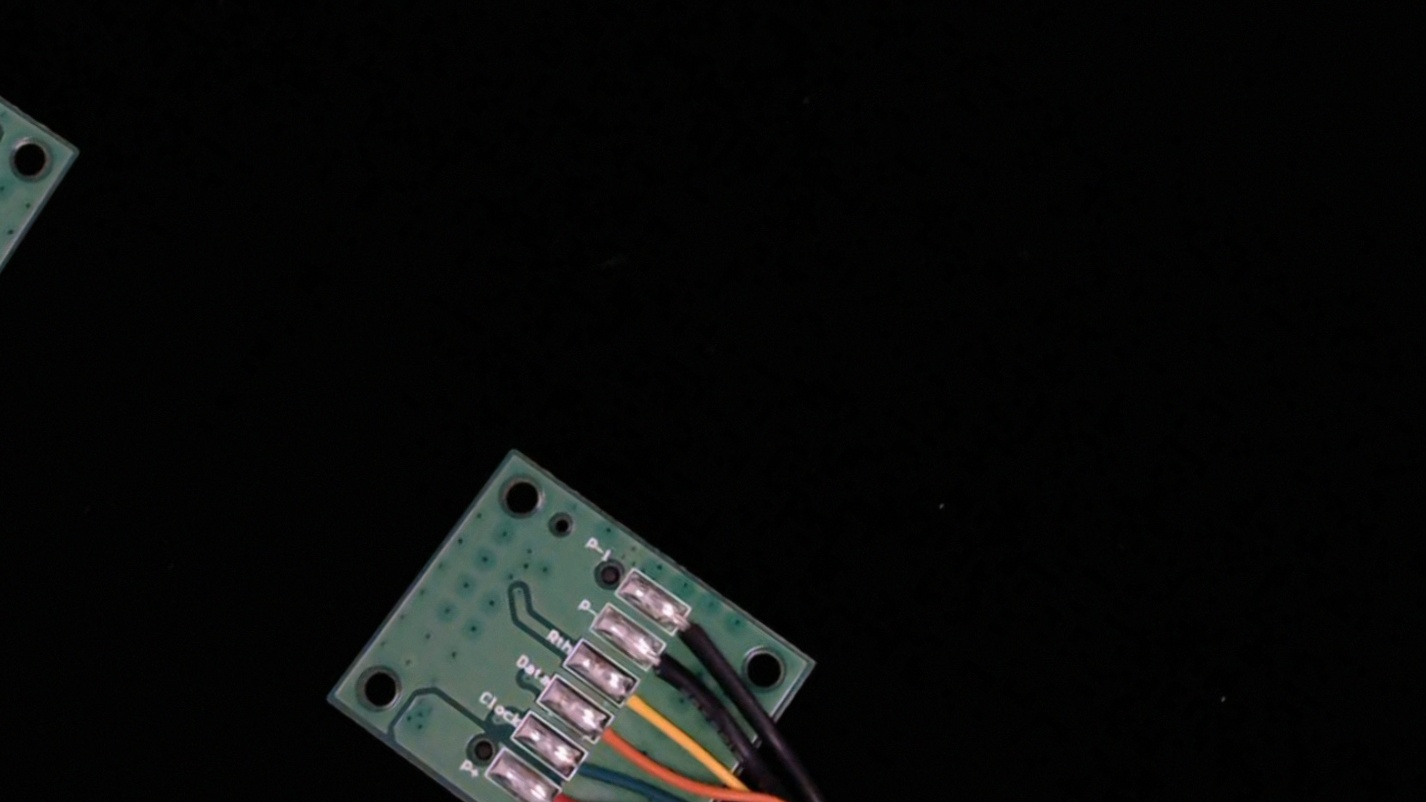Black: (630, 634, 712, 706)
Black1: (654, 593, 739, 667)
Green: (549, 739, 627, 802)
Orange: (575, 704, 664, 780)
Red: (522, 776, 597, 802)
Yellow: (601, 666, 693, 746)
